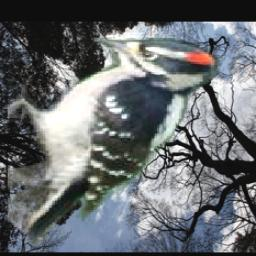Woodpecker: (9, 32, 221, 245)
